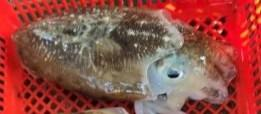Cephalopod: (12, 4, 237, 113)
